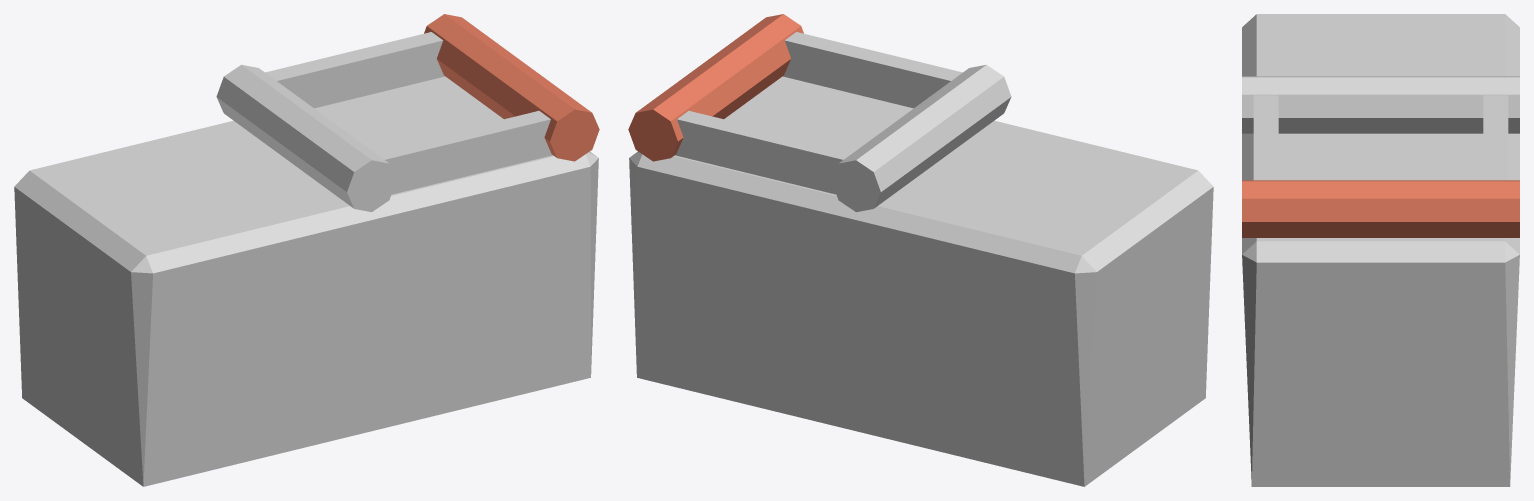
The model's file is LeverSwitch.fbx.
The picture shows the model from 3 angles, left to right: view 1: azimuth 30°, elevation 25°; view 2: azimuth 150°, elevation 25°; view 3: azimuth 270°, elevation 25°; orthographic projection. The views are drawn at different scales.
Parts seen in each view (by area): view 1: LeverSwitchBase, LeverSwitch; view 2: LeverSwitchBase, LeverSwitch; view 3: LeverSwitchBase, LeverSwitch.
Part boxes in pixels (x1=…): LeverSwitchBase: x1=14, y1=64, x2=598, y2=486; LeverSwitch: x1=265, y1=14, x2=599, y2=194; LeverSwitchBase: x1=629, y1=64, x2=1213, y2=486; LeverSwitch: x1=628, y1=14, x2=962, y2=194; LeverSwitchBase: x1=1242, y1=14, x2=1519, y2=486; LeverSwitch: x1=1242, y1=95, x2=1519, y2=237.
Bounding box in the file's own units: 414 × 234 × 200.
